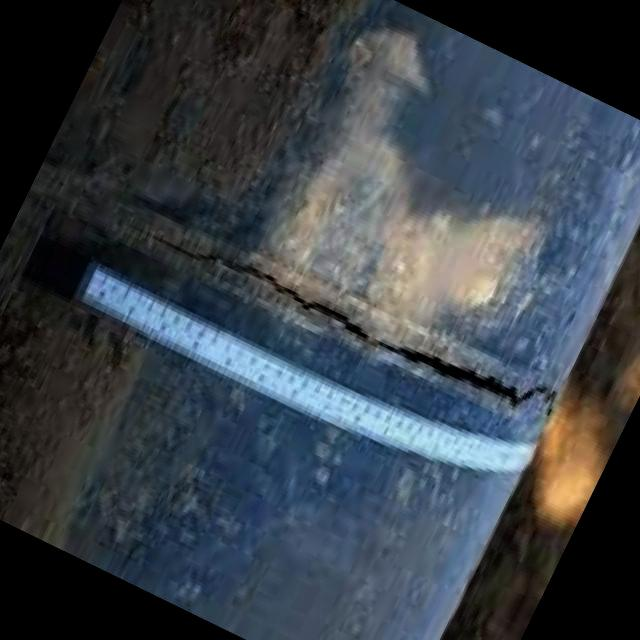defect: (115, 218, 562, 430)
